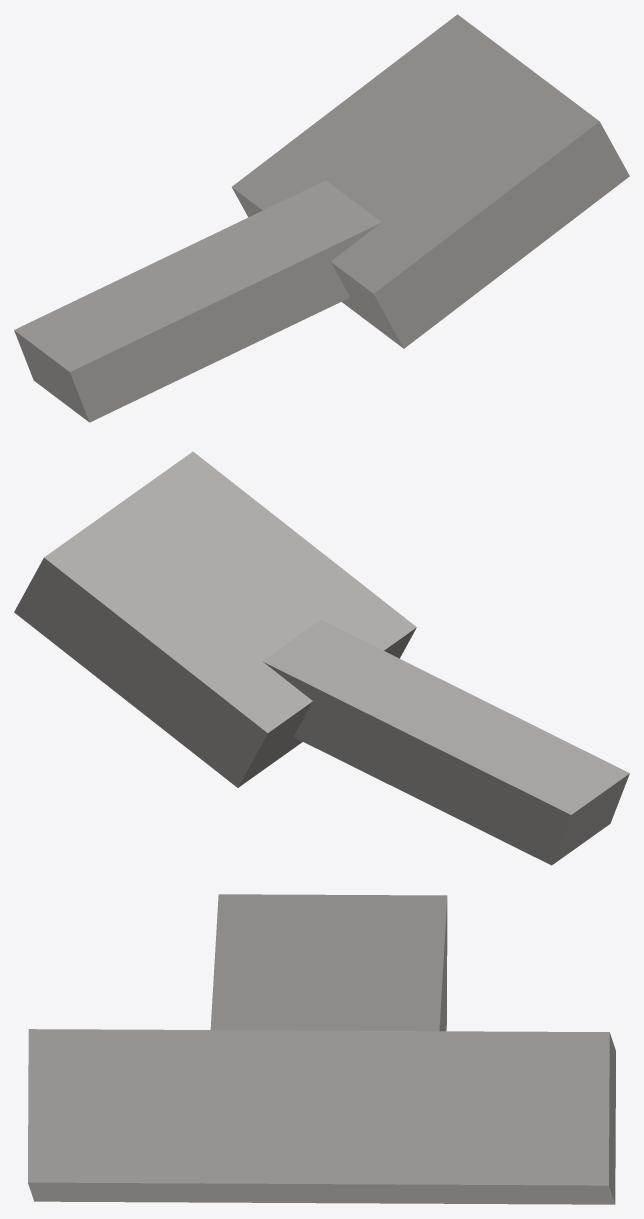
File: Bathroom_Shower.fbx
The picture shows the model from 3 angles, top to bottom: view 1: azimuth 30°, elevation 25°; view 2: azimuth 150°, elevation 25°; view 3: azimuth 270°, elevation 25°; orthographic projection. The views are drawn at different scales.
Visible parts, largest first — view 1: Bathroom_Shower; view 2: Bathroom_Shower; view 3: Bathroom_Shower.
Part boxes in pixels (<box>): Bathroom_Shower: <box>14,14,629,422</box>; Bathroom_Shower: <box>14,451,629,865</box>; Bathroom_Shower: <box>28,894,615,1204</box>.
Size of the model in its own units: 79.92 by 39.5 by 33.05.
